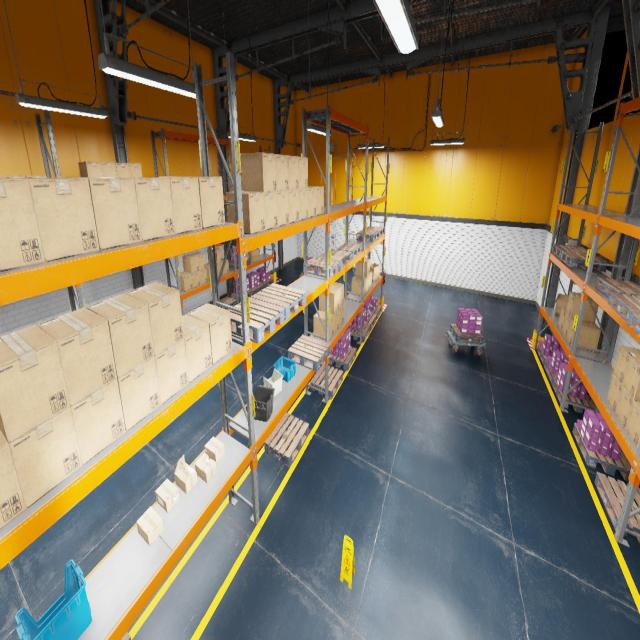box: (0, 324, 70, 442), (36, 307, 117, 406), (9, 407, 82, 509), (24, 178, 99, 261), (86, 294, 154, 378), (70, 378, 126, 464), (125, 282, 184, 356), (0, 178, 45, 272), (85, 177, 142, 250), (123, 177, 175, 241), (117, 356, 161, 431), (187, 303, 232, 364), (155, 177, 202, 234), (0, 430, 26, 529), (154, 339, 188, 404), (182, 314, 212, 382), (226, 191, 265, 234), (195, 177, 225, 228), (240, 152, 277, 192), (567, 318, 601, 352), (136, 506, 164, 546), (613, 345, 640, 385), (566, 292, 598, 322), (174, 454, 197, 494), (562, 312, 594, 338), (155, 478, 179, 512), (622, 356, 640, 401), (616, 386, 634, 430), (626, 401, 640, 448), (313, 310, 334, 341), (606, 374, 622, 414), (195, 453, 216, 483), (319, 286, 339, 314), (264, 191, 278, 230), (205, 436, 224, 463), (276, 154, 288, 191), (277, 190, 289, 227), (308, 186, 323, 215), (288, 155, 299, 190), (78, 162, 103, 177), (330, 282, 344, 308), (554, 293, 569, 317), (289, 189, 299, 223), (175, 272, 192, 292), (351, 276, 367, 296), (298, 156, 308, 188), (183, 254, 199, 273), (299, 188, 308, 220), (355, 258, 370, 277), (191, 252, 206, 270), (308, 186, 316, 218), (207, 248, 222, 264), (101, 162, 117, 176), (358, 275, 370, 293), (209, 262, 223, 277), (558, 306, 566, 332), (116, 162, 130, 176), (370, 263, 380, 282), (129, 163, 142, 177), (248, 248, 260, 262), (192, 271, 200, 288), (334, 308, 339, 334), (200, 268, 208, 284), (339, 304, 344, 328), (222, 258, 229, 275), (206, 262, 210, 280), (369, 272, 372, 288)
pallets: (572, 423, 632, 481), (594, 472, 640, 542), (228, 298, 284, 343), (264, 412, 309, 467), (251, 283, 306, 320), (552, 377, 595, 413), (288, 335, 330, 371), (310, 363, 343, 399), (560, 251, 608, 271), (608, 292, 640, 322), (595, 277, 640, 298), (303, 256, 342, 278), (450, 324, 483, 344), (329, 346, 356, 370), (318, 249, 352, 266), (552, 244, 587, 258), (336, 242, 361, 259), (348, 323, 370, 342), (626, 310, 640, 336), (212, 296, 236, 310), (356, 229, 379, 242), (537, 344, 550, 365), (231, 290, 252, 302), (544, 359, 554, 384), (229, 260, 250, 269), (367, 226, 385, 236), (366, 313, 376, 329), (372, 304, 382, 320), (249, 284, 263, 294), (260, 279, 273, 288), (121, 631, 131, 640), (302, 270, 304, 275)
